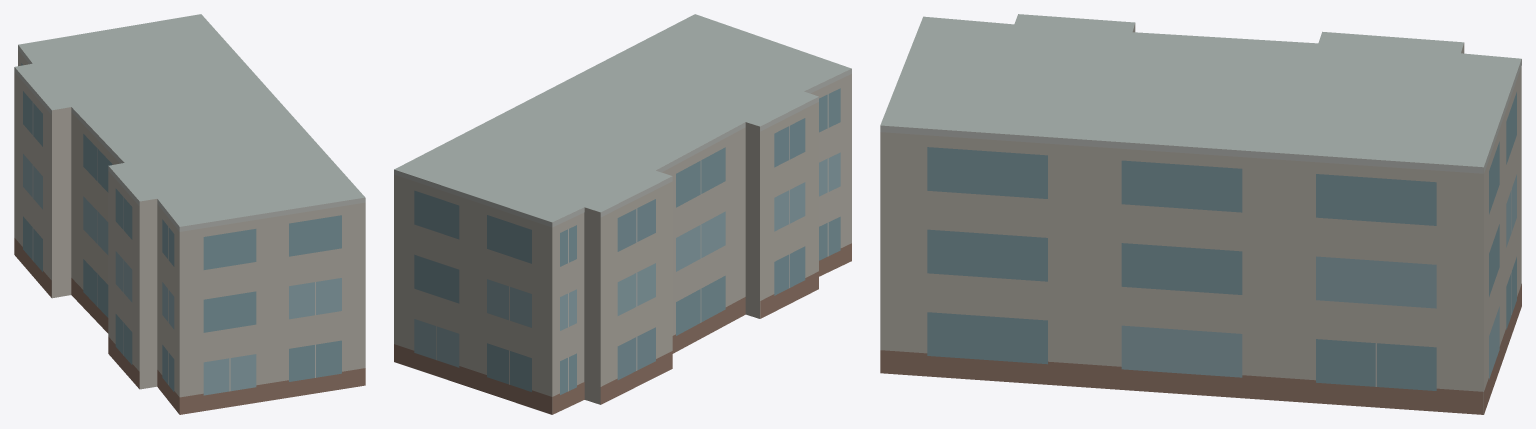
Rendered from survey-upis-32674706.glb.
3 renders of one model, left to right at view 1: azimuth 30°, elevation 25°; view 2: azimuth 150°, elevation 25°; view 3: azimuth 270°, elevation 25°, orthographic. The views are drawn at different scales.
Parts seen in each view (by area): view 1: survey-upis-32674706.tmp; view 2: survey-upis-32674706.tmp; view 3: survey-upis-32674706.tmp.
Part boxes in pixels (x1,y1,x2,y2): survey-upis-32674706.tmp: (14,14,365,414); survey-upis-32674706.tmp: (394,14,851,414); survey-upis-32674706.tmp: (880,14,1521,414).
Size of the model in its own units: 12.15 by 9.15 by 21.49.
